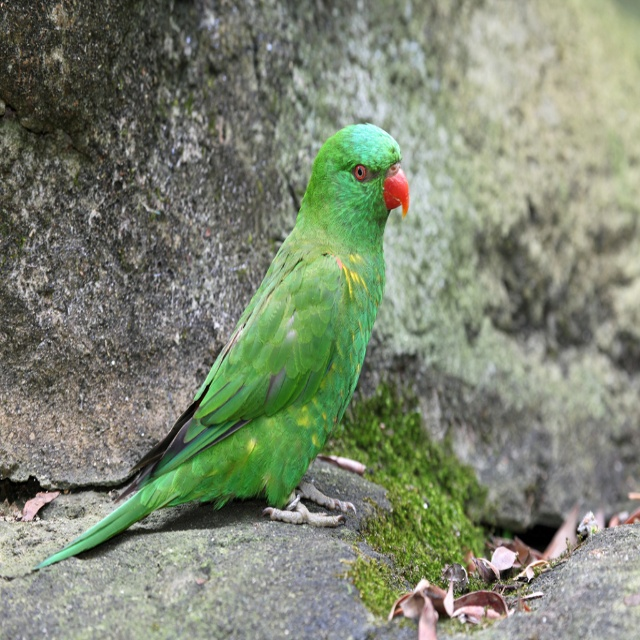Parrot: (31, 122, 410, 571)
